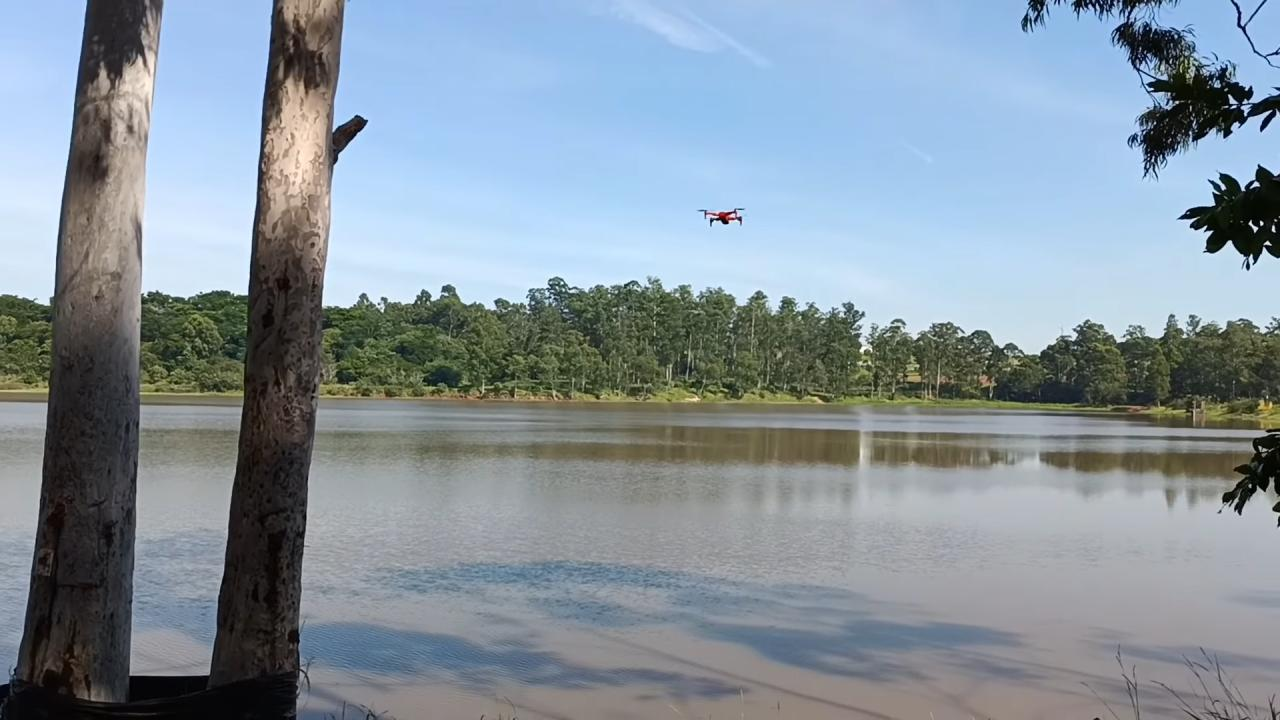Drone: (691, 200, 756, 233)
